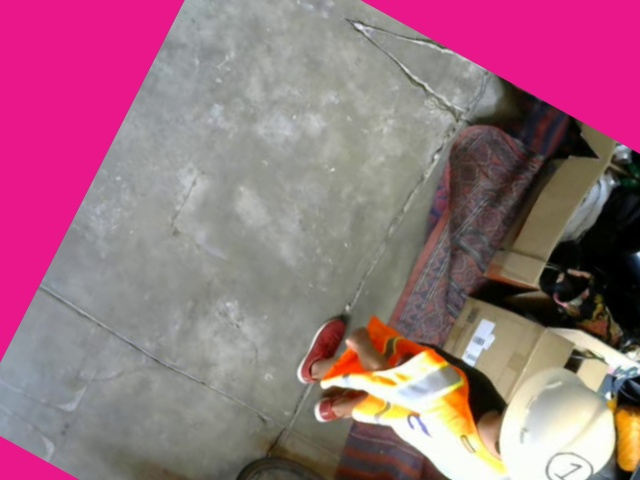one: (541, 444, 596, 479)
